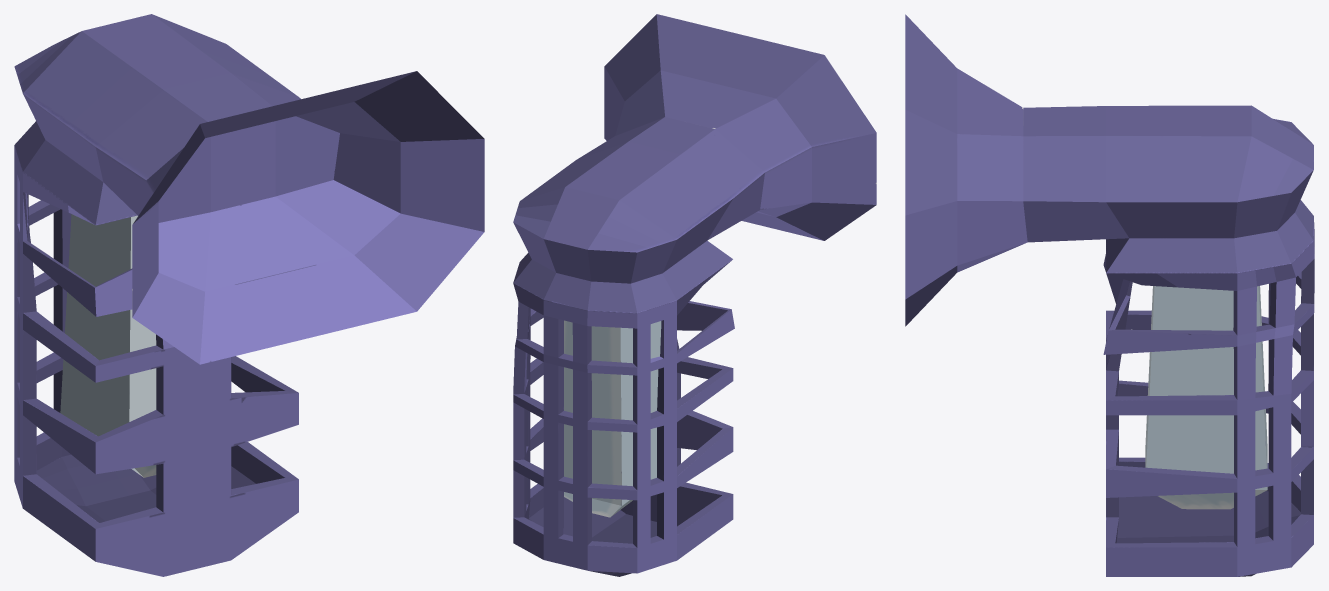
File: Lamp_wall.fbx
3 renders of one model, left to right at view 1: azimuth 30°, elevation 25°; view 2: azimuth 150°, elevation 25°; view 3: azimuth 270°, elevation 25°, orthographic. The views are drawn at different scales.
Parts seen in each view (by area): view 1: Lamp_wall; view 2: Lamp_wall; view 3: Lamp_wall.
Boxes of the visible parts, box(x1,y1,x2,y2) form: Lamp_wall: box(14, 14, 484, 576); Lamp_wall: box(513, 14, 876, 576); Lamp_wall: box(905, 14, 1314, 576).
Size of the model in its own units: 62.18 by 93.24 by 69.35.
Materials: 1 (1 with a texture image).
